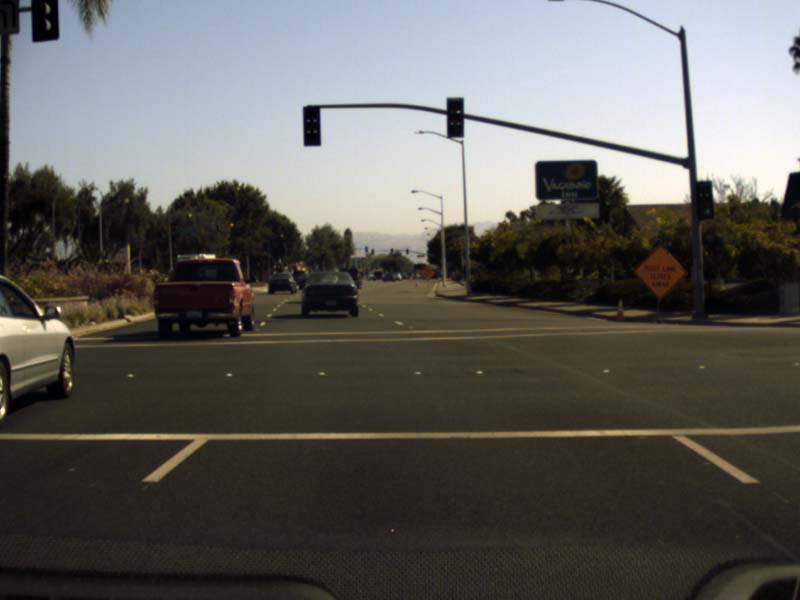Green: (695, 181, 713, 218)
